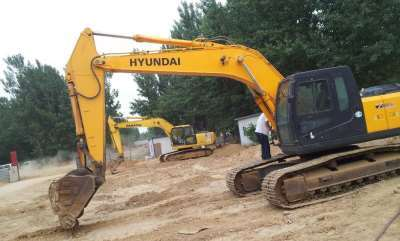excavator: (40, 26, 400, 231)
